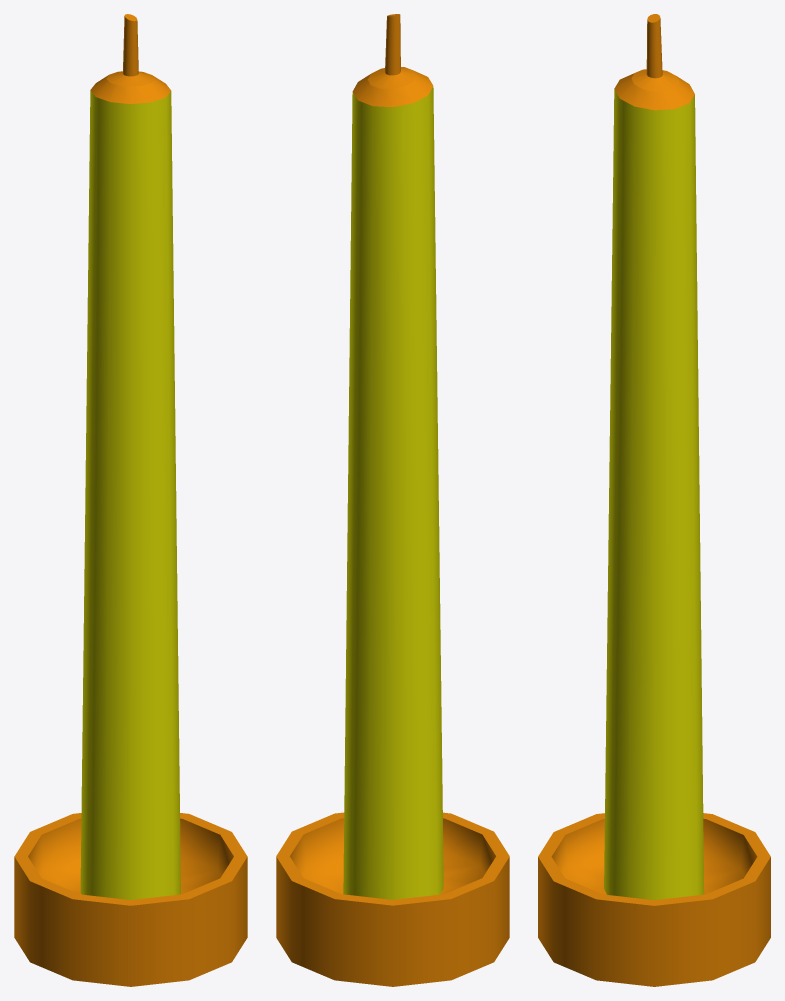
File: Candle_1.fbx
3 renders of one model, left to right at view 1: azimuth 30°, elevation 25°; view 2: azimuth 150°, elevation 25°; view 3: azimuth 270°, elevation 25°, orthographic.
Parts seen in each view (by area): view 1: Candle_1; view 2: Candle_1; view 3: Candle_1.
Boxes of the visible parts, bbox=[...] form: Candle_1: bbox=[14, 14, 247, 986]; Candle_1: bbox=[276, 14, 509, 986]; Candle_1: bbox=[538, 14, 770, 986].
Bounding box in the file's own units: 7.2 × 31.42 × 7.2.
